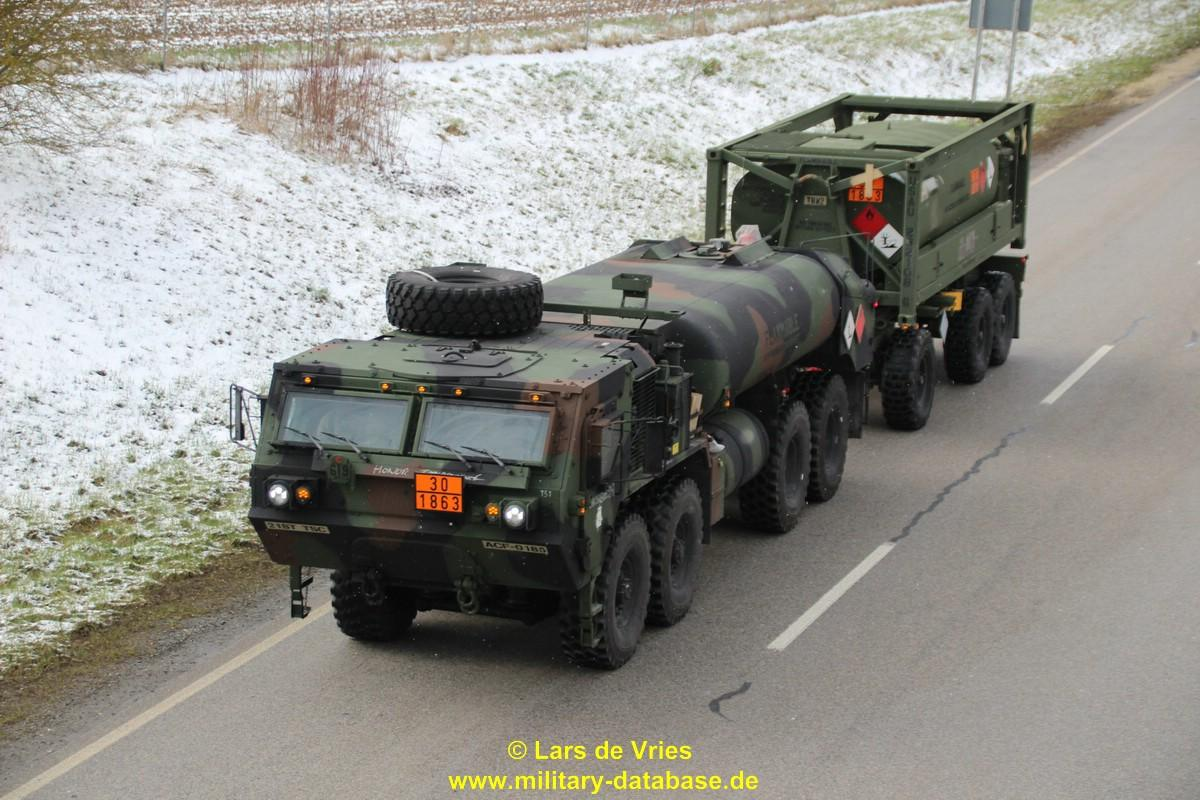truck: (224, 221, 850, 677)
